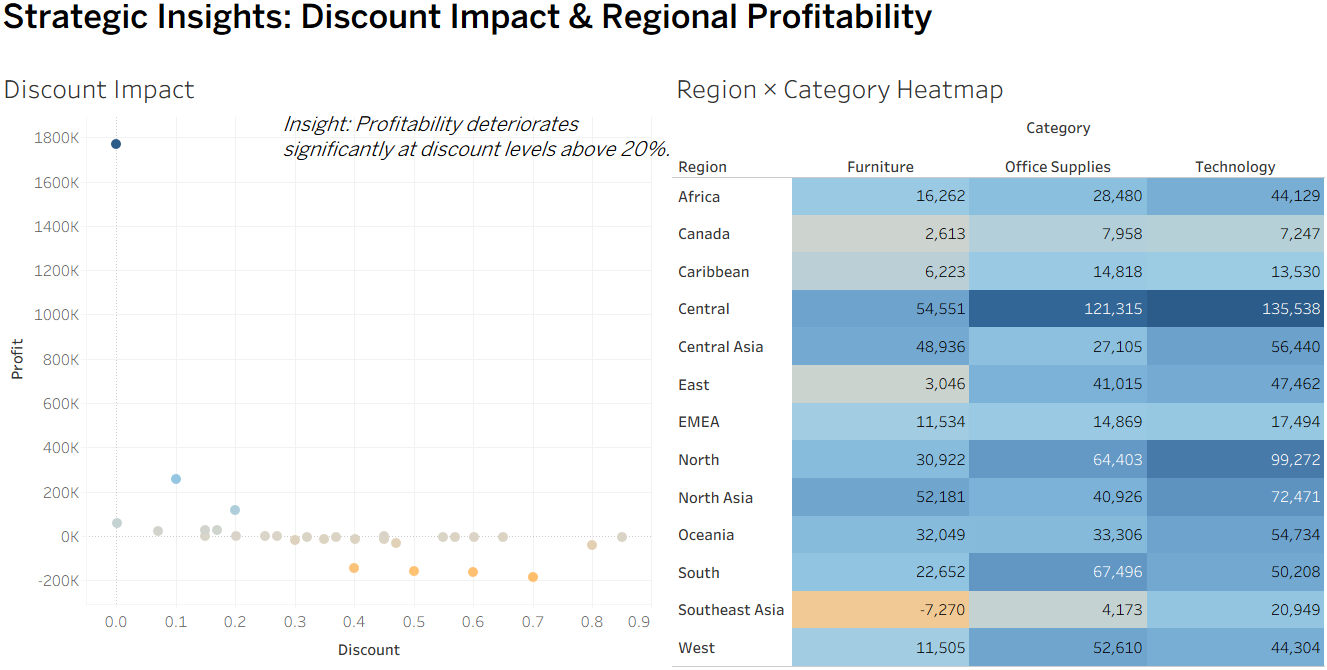

This screenshot's page, from the dashboard's own definition file:
{"tool":"tableau","page":{"name":"Strategic Insights","canvas":[1366,768],"ordinal":1},"visuals":[{"type":"text","box":[20,20,1326,60]},{"type":"worksheet","title":"Discount Impact","mark":"Circle","rows":["Profit"],"cols":["Discount"],"box":[20,100,653,600]},{"type":"worksheet","title":"Region × Category Heatmap","mark":"Square","rows":["Region"],"cols":["Category"],"box":[693,100,653,600]},{"type":"text","box":[300,130,400,80]}]}

Visuals, with their boxes on the page's 1366x768 design canvas (x1, y1, x2, y2). These are canvas units, not pixel positions in the 1327x670 screenshot, which may show the page scaled, cropped or inside an application window:
text: detection(20, 20, 1346, 80)
"Discount Impact" worksheet (Circle marks): detection(20, 100, 673, 700)
"Region × Category Heatmap" worksheet (Square marks): detection(693, 100, 1346, 700)
text: detection(300, 130, 700, 210)
